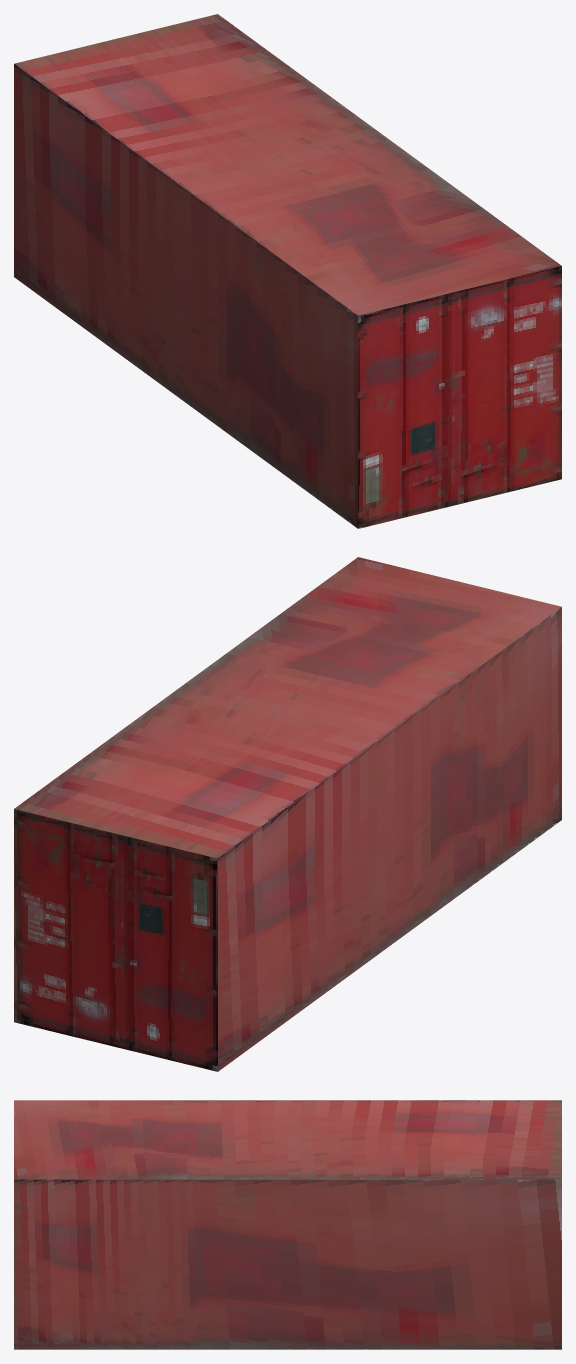
Rendered from shippingcontainer.glb.
3 renders of one model, top to bottom at view 1: azimuth 30°, elevation 25°; view 2: azimuth 150°, elevation 25°; view 3: azimuth 270°, elevation 25°, orthographic. The views are drawn at different scales.
Parts seen in each view (by area): view 1: ShippingContainer; view 2: ShippingContainer; view 3: ShippingContainer.
Boxes of the visible parts, x1,y1,x2,y2 form: ShippingContainer: (14, 14, 561, 528); ShippingContainer: (14, 557, 561, 1071); ShippingContainer: (14, 1100, 561, 1349).
Size of the model in its own units: 2 by 2 by 5.85.
Materials: 1 (1 with a texture image).
